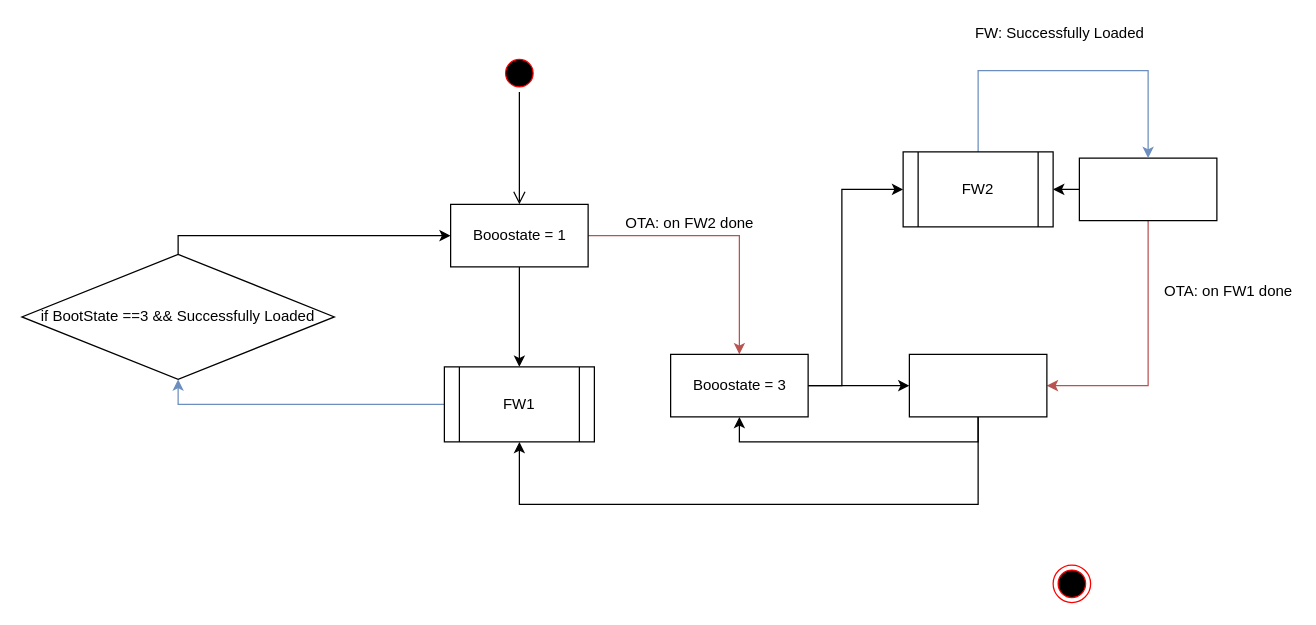
The diagram is 1316 pixels wide and 625 high, and some of its shapes have lost their labels. The shapes that lost their labels are listed below. From the top down, each one's box as (x1, y1, x2, y2) in pixels, then its label:
(1078, 157, 1217, 221): Booostate = 2
(908, 353, 1047, 417): Booostate = 4
